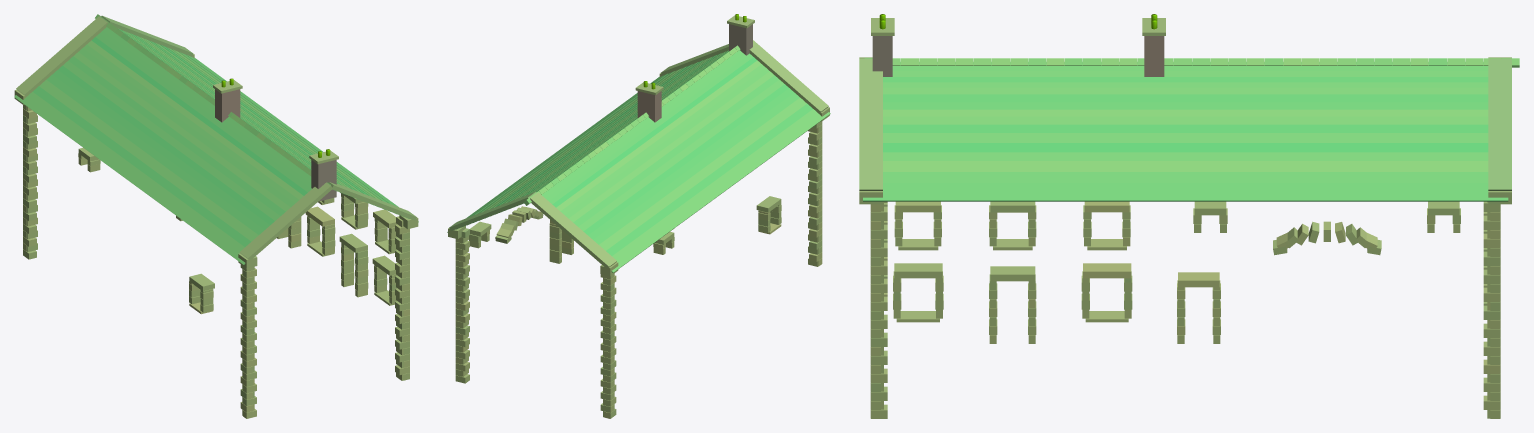
The model's file is SM_Bld_016_Stone.glb.
3 views of the same model, side by side, from view 1: azimuth 30°, elevation 25°; view 2: azimuth 150°, elevation 25°; view 3: azimuth 270°, elevation 25° (orthographic). The views are drawn at different scales.
Parts seen in each view (by area): view 1: SM_Bld_016_Stone; view 2: SM_Bld_016_Stone; view 3: SM_Bld_016_Stone.
Boxes of the visible parts, <box> form: SM_Bld_016_Stone: <box>14,14,418,418</box>; SM_Bld_016_Stone: <box>447,14,830,418</box>; SM_Bld_016_Stone: <box>859,14,1519,418</box>.
Bounding box in the file's own units: 8.61 × 11.49 × 19.95.
